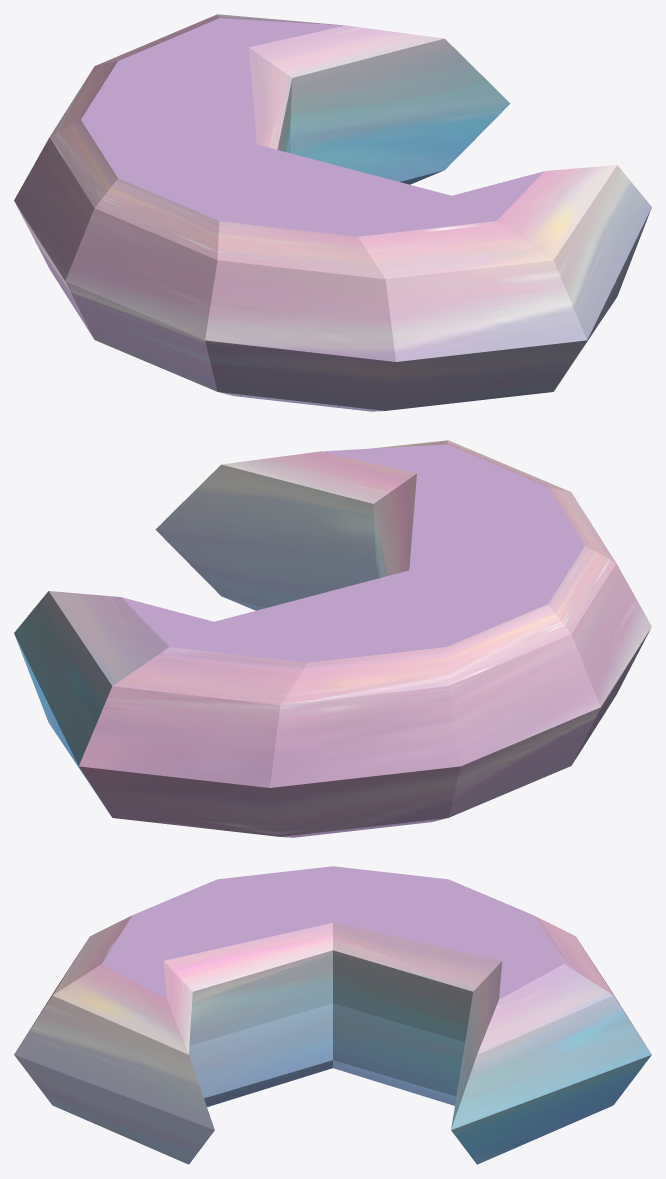
The model's file is MoonStone.fbx.
3 renders of one model, top to bottom at view 1: azimuth 30°, elevation 25°; view 2: azimuth 150°, elevation 25°; view 3: azimuth 270°, elevation 25°, orthographic. The views are drawn at different scales.
Visible parts, largest first — view 1: Cylinder.007; view 2: Cylinder.007; view 3: Cylinder.007.
Part boxes in pixels (x1,y1,x2,y2): Cylinder.007: (14, 14, 651, 411); Cylinder.007: (14, 440, 651, 837); Cylinder.007: (14, 866, 651, 1164).
Bounding box in the file's own units: 177 × 58.65 × 227.
